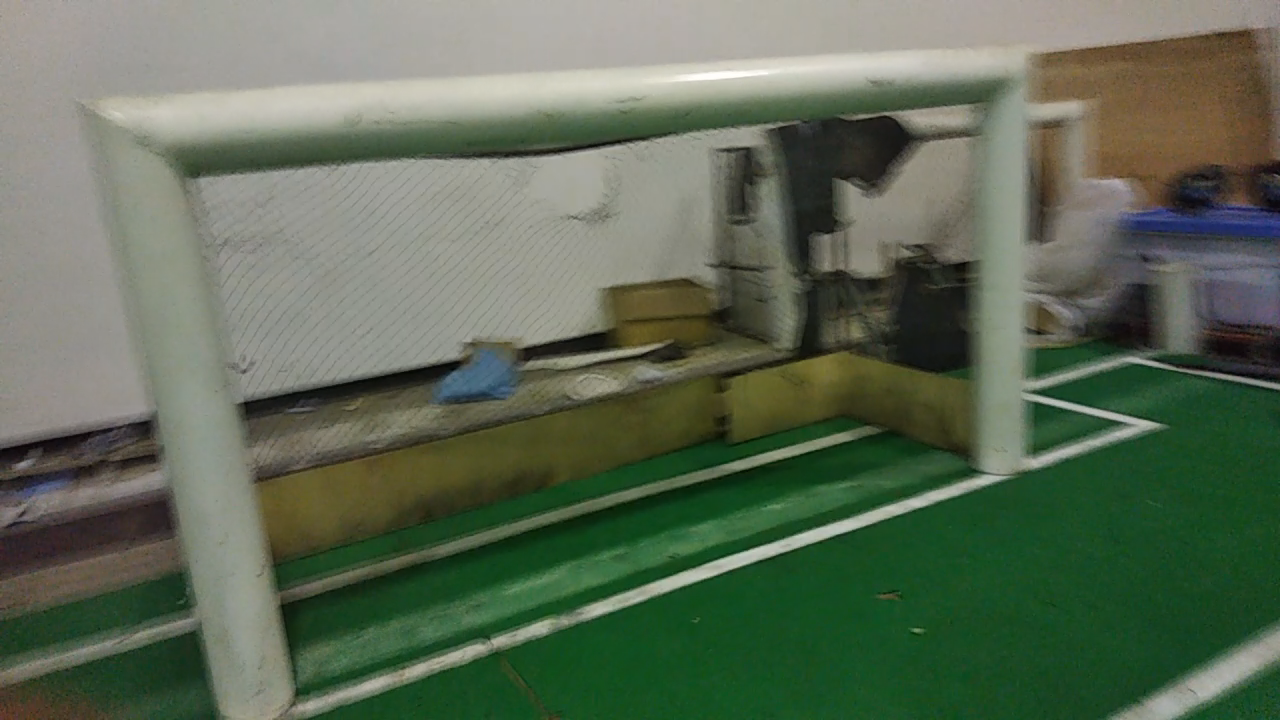gawang: (60, 24, 1051, 715)
